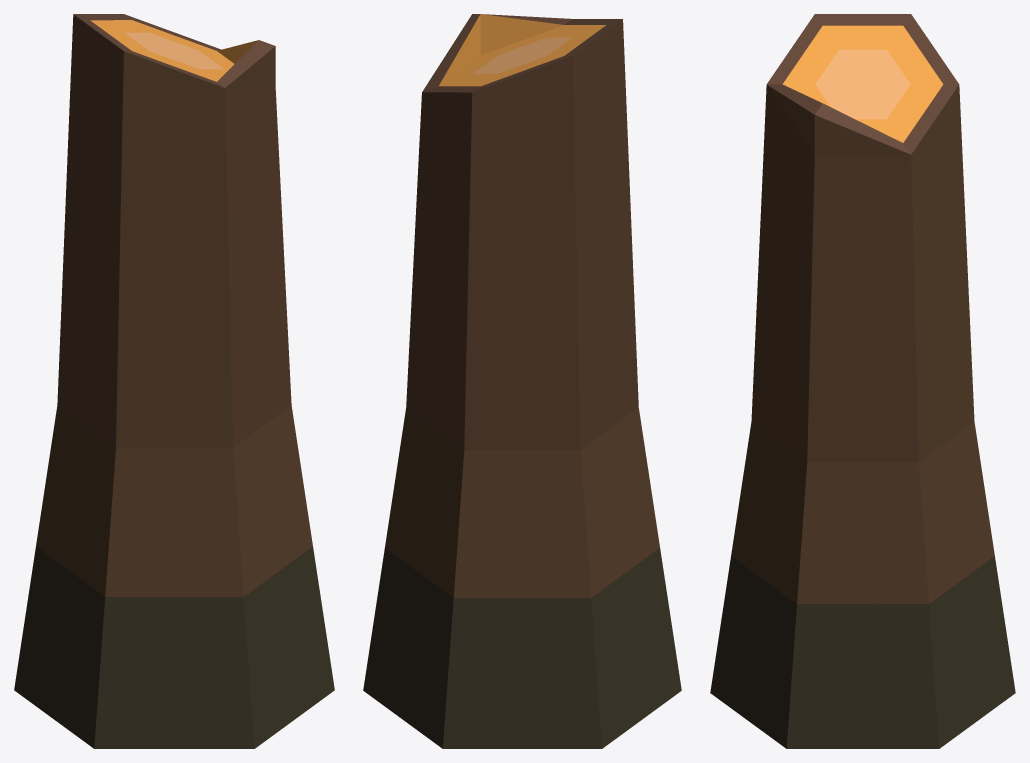
File: SpruceStump_003.fbx
3 views of the same model, side by side, from view 1: azimuth 30°, elevation 25°; view 2: azimuth 150°, elevation 25°; view 3: azimuth 270°, elevation 25° (orthographic). The views are drawn at different scales.
Visible parts, largest first — view 1: SpruceStump.003; view 2: SpruceStump.003; view 3: SpruceStump.003.
Boxes of the visible parts, <box> form: SpruceStump.003: <box>14,14,334,748</box>; SpruceStump.003: <box>363,14,681,748</box>; SpruceStump.003: <box>710,14,1015,748</box>.
Bounding box in the file's own units: 1.28 × 3.44 × 1.48.
